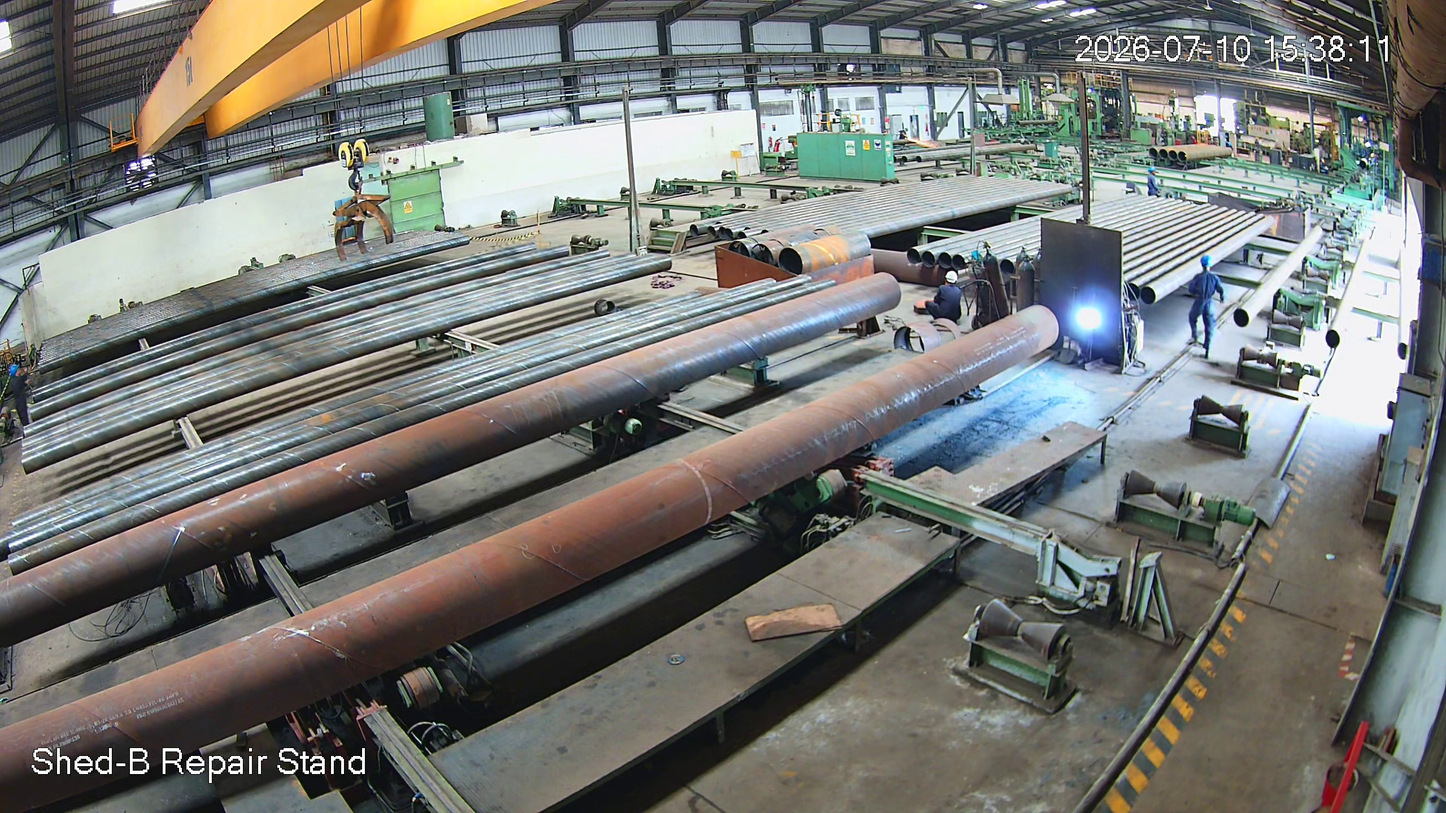Helmet: (937, 265, 968, 294), (1196, 254, 1217, 278)
Person: (1187, 255, 1220, 363), (916, 269, 967, 329)
